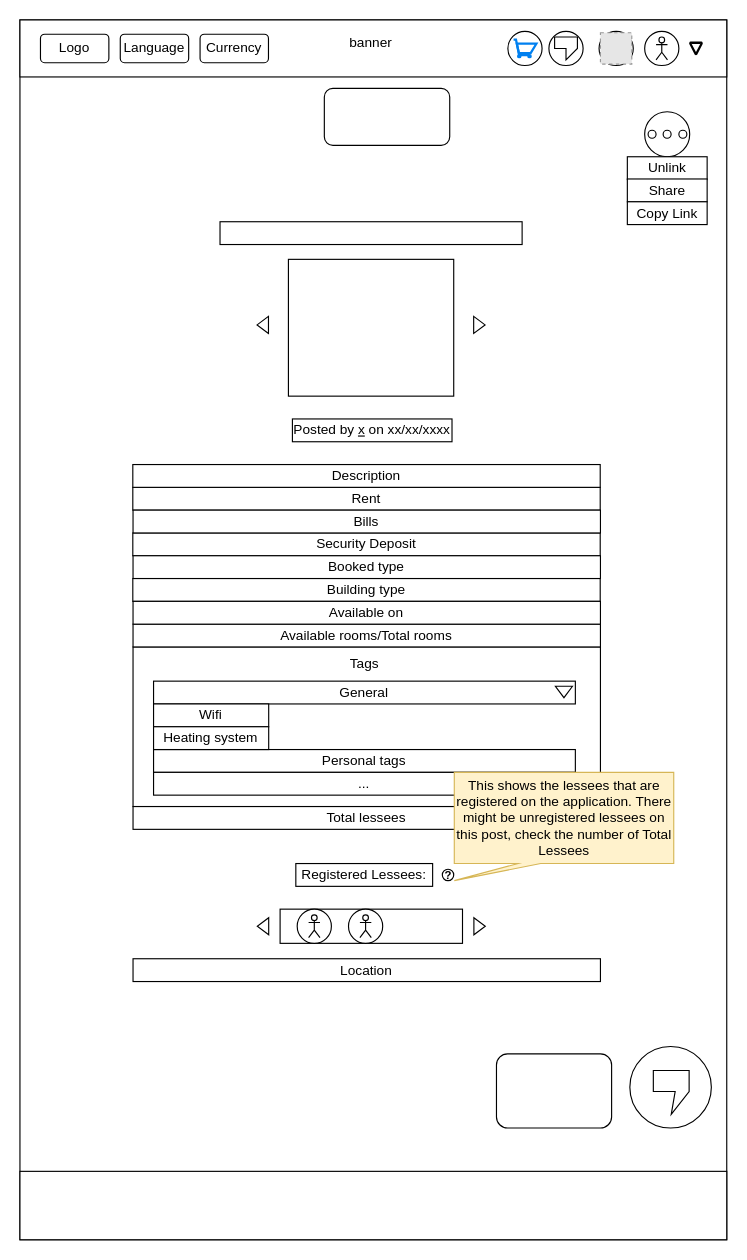
This 747x1260 diagram has some shape labels left out. Grey dashed boxes stand in for pictures. The box of each missing label's shape, as (x1, y1, x2, y2) in pixels:
Check users that liked this post: (495, 1053, 612, 1128)
footpage: (19, 1170, 727, 1240)
Post's Images: (287, 258, 454, 396)
Post's name: (219, 221, 522, 245)
You are linked to this post: (323, 87, 450, 145)
